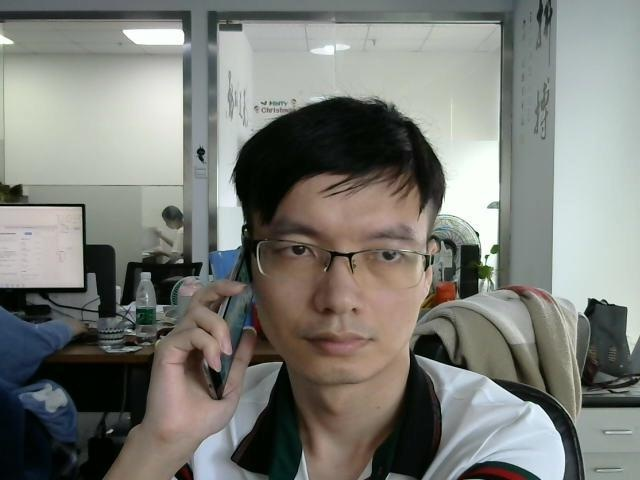hand: (146, 271, 257, 432)
